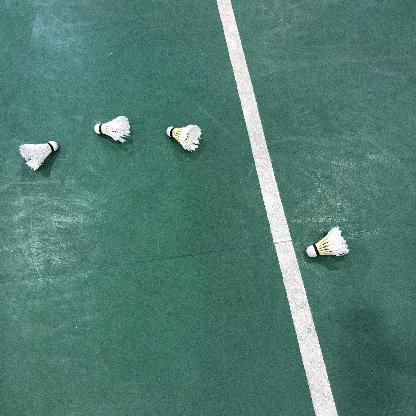ball_single: (306, 226, 350, 257), (19, 141, 58, 171), (166, 124, 202, 152), (94, 116, 131, 143)
